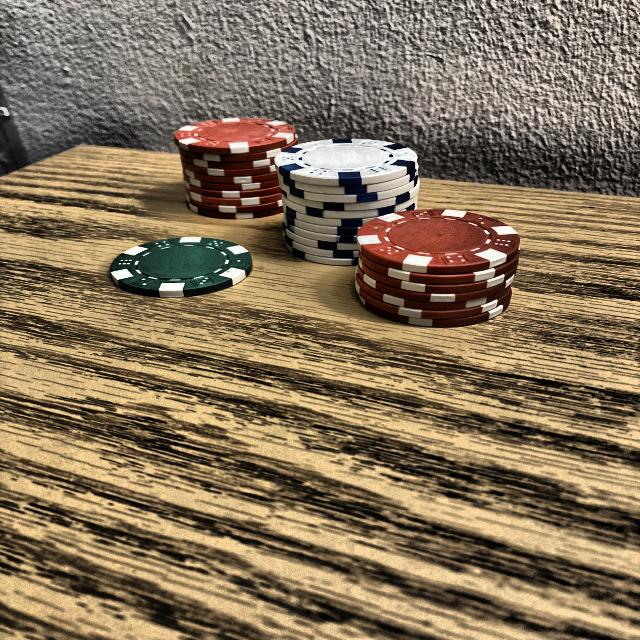Chip: (346, 188, 530, 344), (269, 117, 421, 280), (168, 98, 303, 232), (107, 232, 260, 301)
